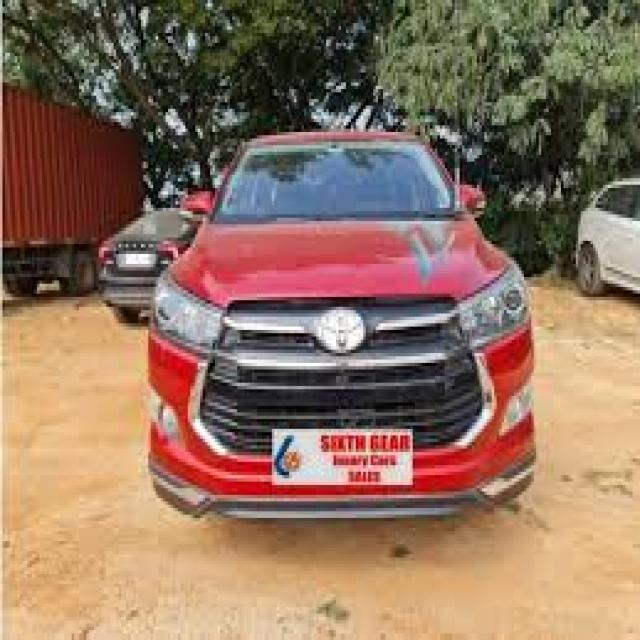light_vehicle: (148, 130, 536, 521), (99, 207, 202, 323), (576, 175, 640, 299)
